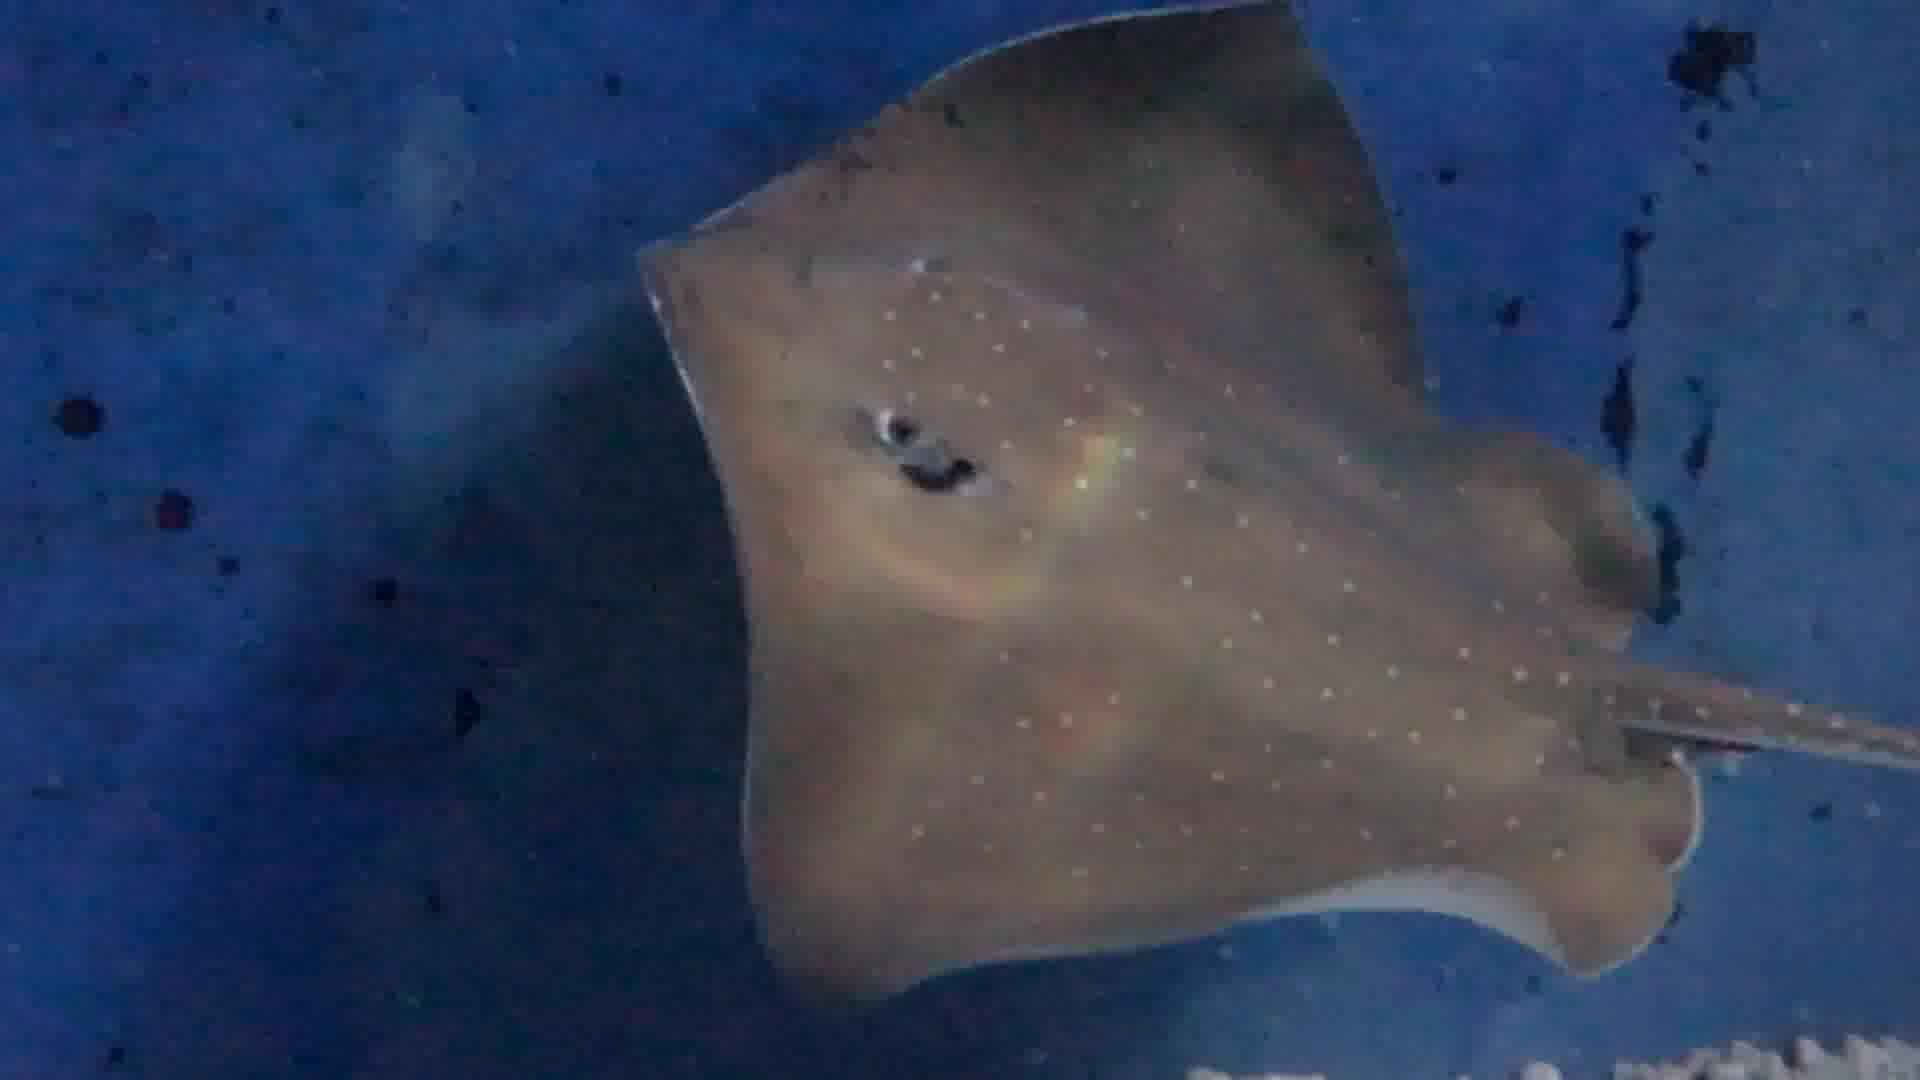Himantura gerrardi: (570, 15, 1894, 1029)
